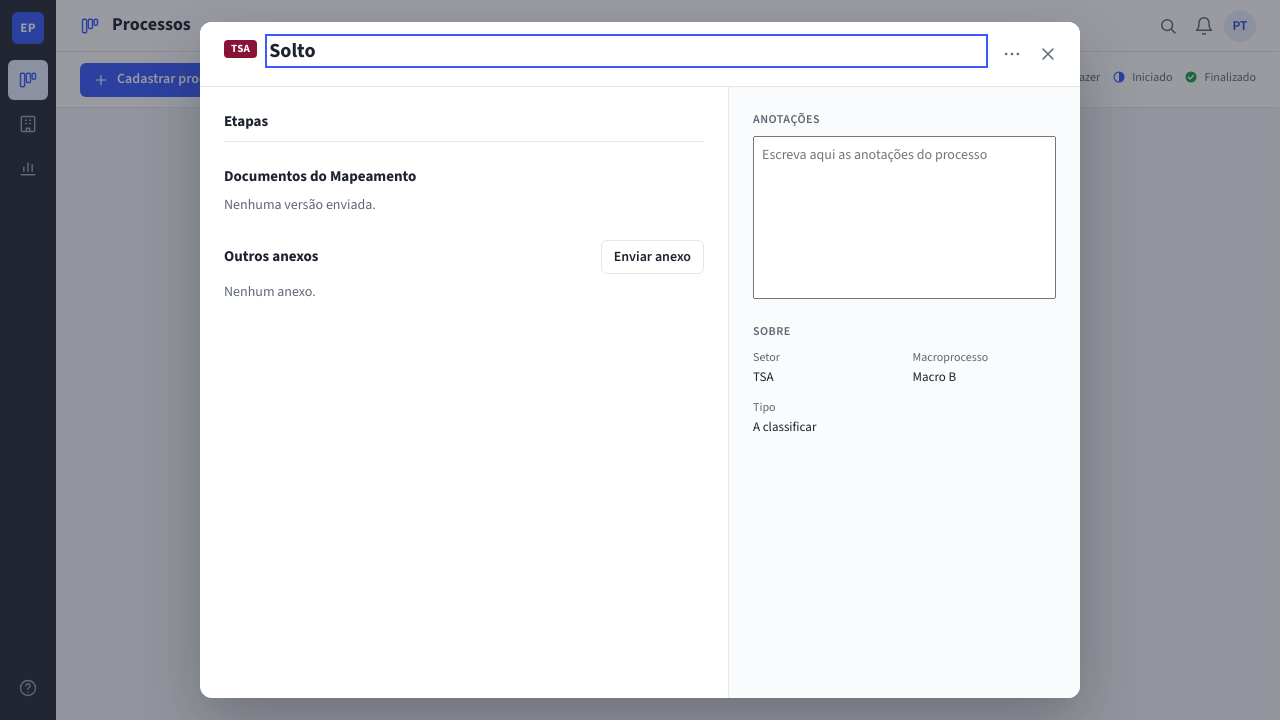
Test: "a classificar" vira processo: o tipo muda no Sobre do painel
The image size is (1280, 720).
Click the button named "Ações do processo" at (1012, 54), box [996, 38, 1028, 70]
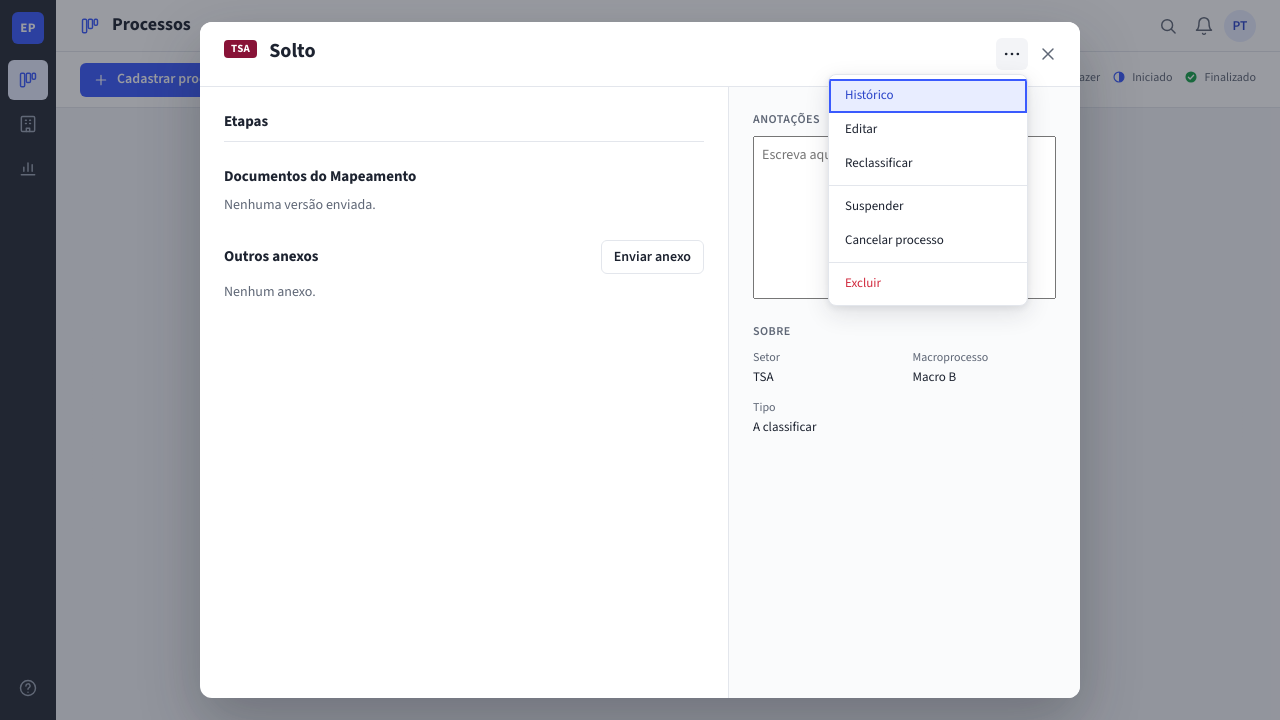
Click the menu item "Reclassificar" at (928, 164), box [829, 147, 1027, 181]
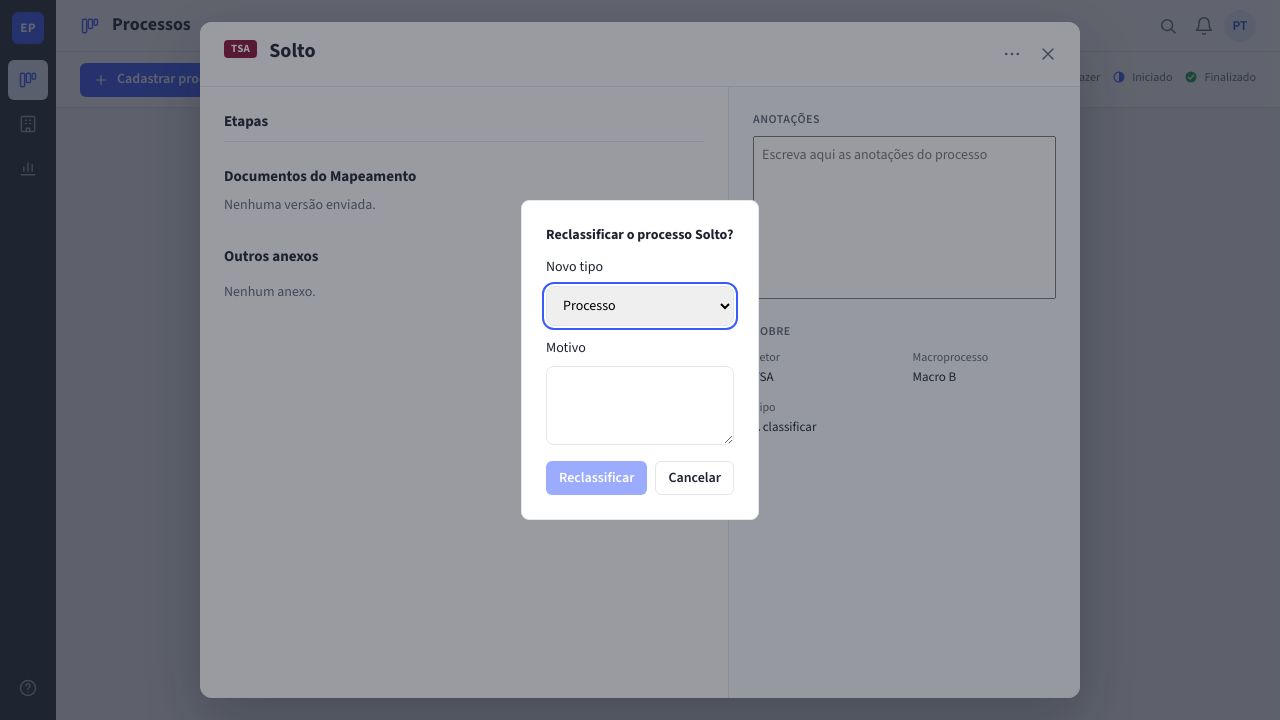
Type "É um processo" into the text box labelled "Motivo" at (640, 405), box [546, 366, 734, 445]
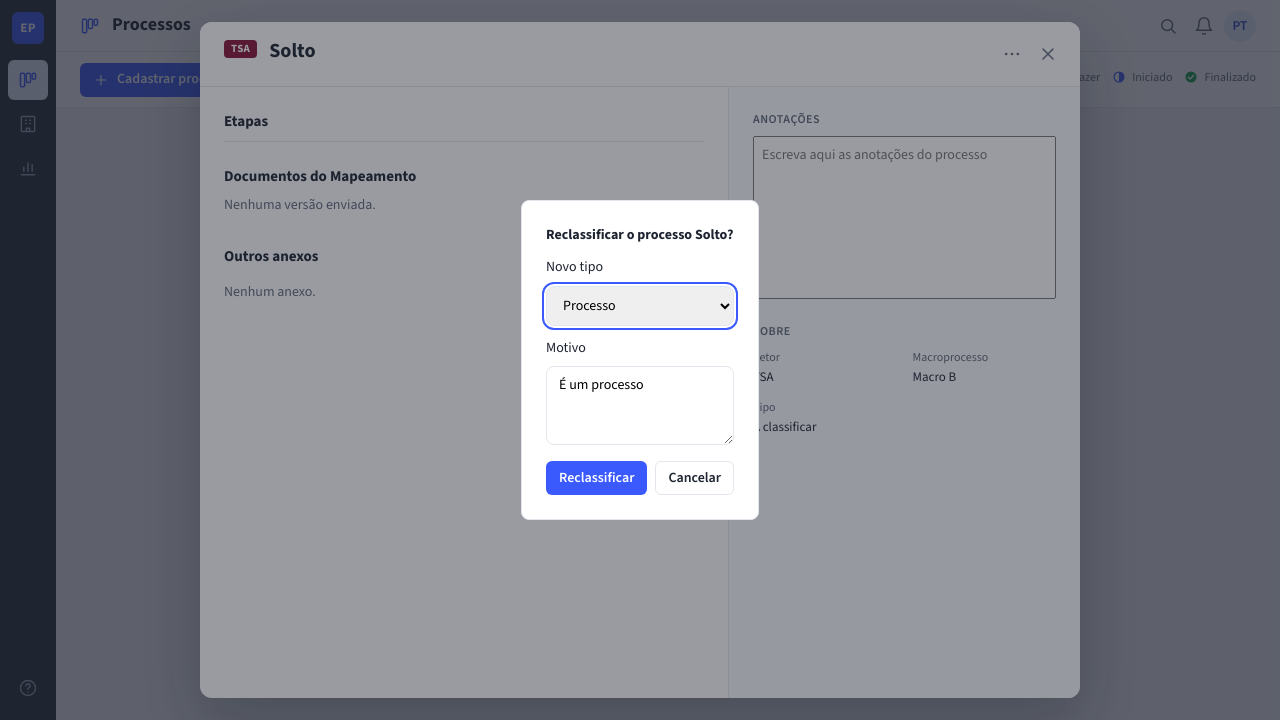
Click the button "Reclassificar" at (597, 478), box [546, 461, 647, 495]
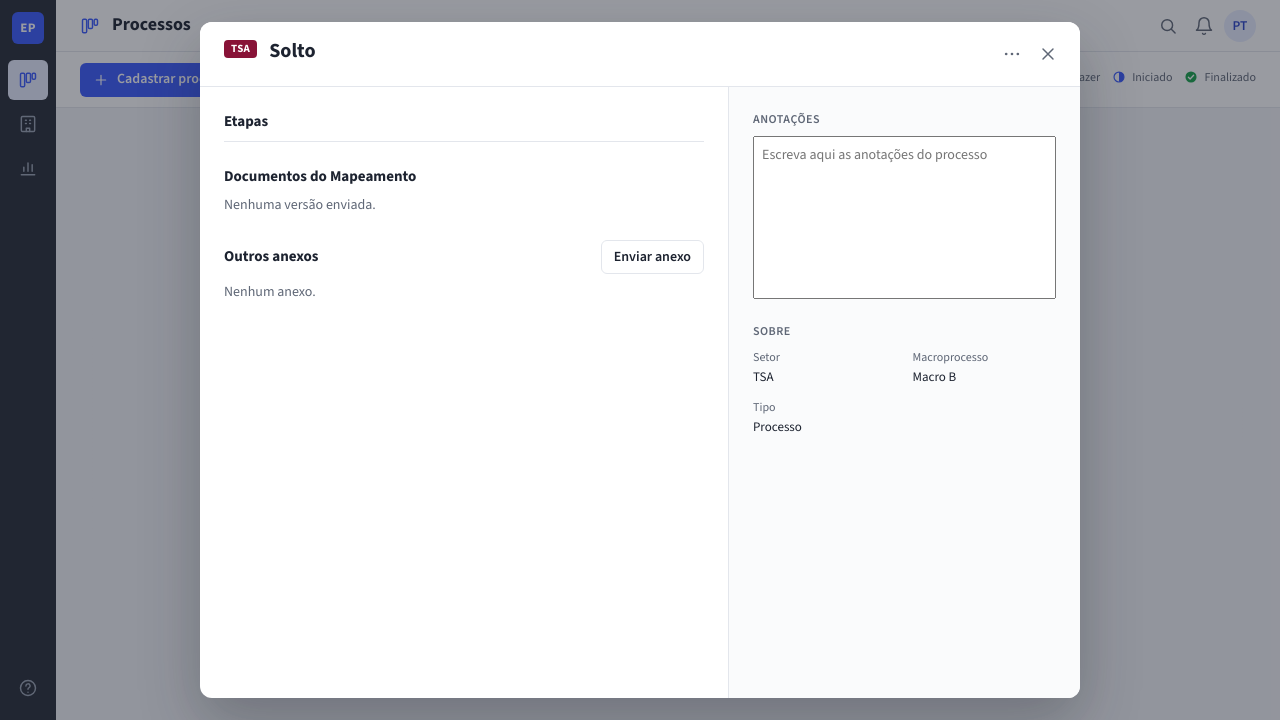
Now the text "Processo" is shown, box [753, 418, 802, 436]
